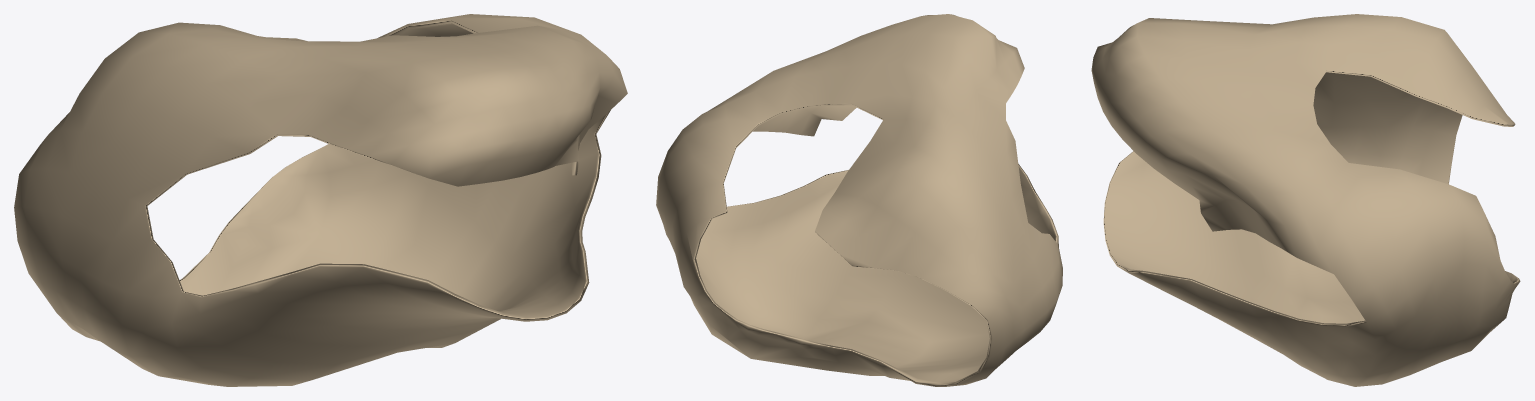
3 renders of one model, left to right at view 1: azimuth 30°, elevation 25°; view 2: azimuth 150°, elevation 25°; view 3: azimuth 270°, elevation 25°, orthographic. The views are drawn at different scales.
Parts seen in each view (by area): view 1: 右侧肘关节囊; view 2: 右侧肘关节囊; view 3: 右侧肘关节囊.
Boxes of the visible parts, x1,y1,x2,y2 form: 右侧肘关节囊: (14,14,627,386); 右侧肘关节囊: (656,14,1062,386); 右侧肘关节囊: (1091,14,1520,386).
Size of the model in its own units: 0.0901 by 0.0623 by 0.0784.
